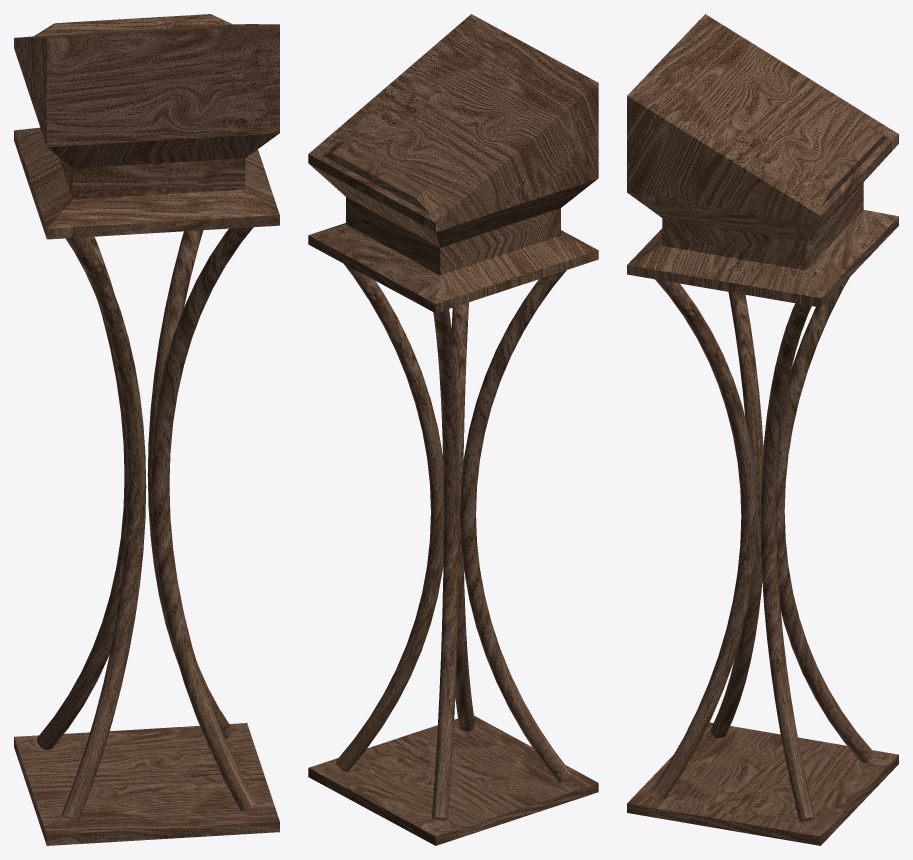
File: Lectern.fbx
3 renders of one model, left to right at view 1: azimuth 30°, elevation 25°; view 2: azimuth 150°, elevation 25°; view 3: azimuth 270°, elevation 25°, orthographic. The views are drawn at different scales.
Visible parts, largest first — view 1: Lectern:Bottom, Lectern:Top; view 2: Lectern:Top, Lectern:Bottom; view 3: Lectern:Top, Lectern:Bottom.
Boxes of the visible parts, x1=… form: Lectern:Bottom: x1=14, y1=227, x2=279, y2=845; Lectern:Top: x1=14, y1=14, x2=279, y2=239; Lectern:Top: x1=308, y1=14, x2=598, y2=313; Lectern:Bottom: x1=308, y1=264, x2=598, y2=845; Lectern:Top: x1=627, y1=14, x2=898, y2=307; Lectern:Bottom: x1=627, y1=277, x2=898, y2=845.
Bounding box in the file's own units: 0.4737 × 1.38 × 0.4737.
